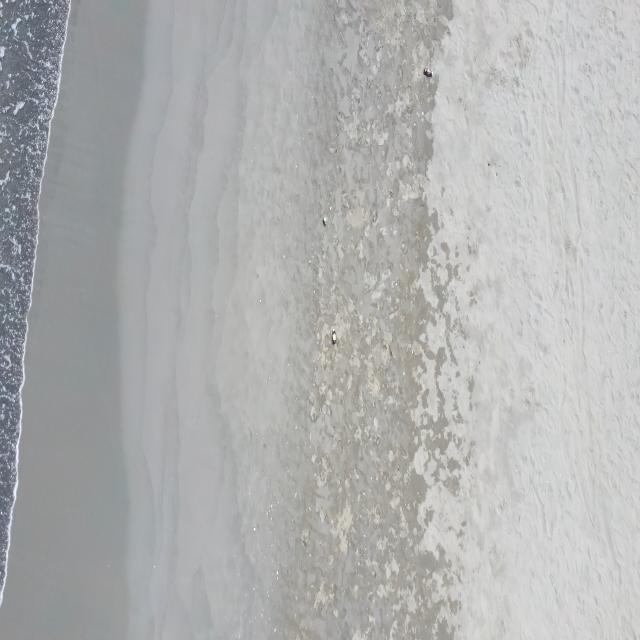glass: (332, 328, 338, 346), (424, 68, 434, 77), (322, 217, 328, 226)
